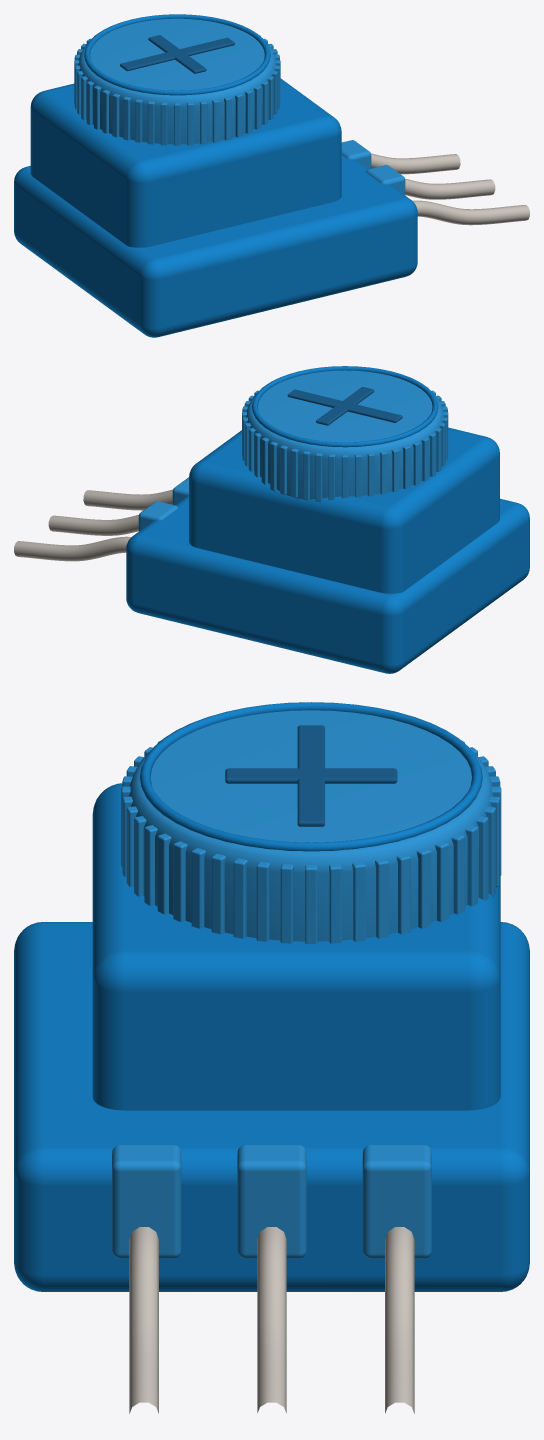
Rendered from components-05.glb.
3 renders of one model, top to bottom at view 1: azimuth 30°, elevation 25°; view 2: azimuth 150°, elevation 25°; view 3: azimuth 270°, elevation 25°, orthographic. The views are drawn at different scales.
Visible parts, largest first — view 1: housing, knob, pins; view 2: housing, knob, pins; view 3: housing, knob, pins.
Part boxes in pixels (left/top/right/bottom): housing: left=14, top=78, right=417, bottom=337; knob: left=74, top=14, right=280, bottom=145; pins: left=371, top=153, right=529, bottom=225; housing: left=126, top=427, right=529, bottom=673; knob: left=242, top=366, right=448, bottom=501; pins: left=14, top=489, right=172, bottom=561; housing: left=14, top=783, right=529, bottom=1291; knob: left=121, top=702, right=501, bottom=943; pins: left=129, top=1227, right=414, bottom=1413.
Bounding box in the file's own units: 1.79 × 0.8581 × 1.05.
